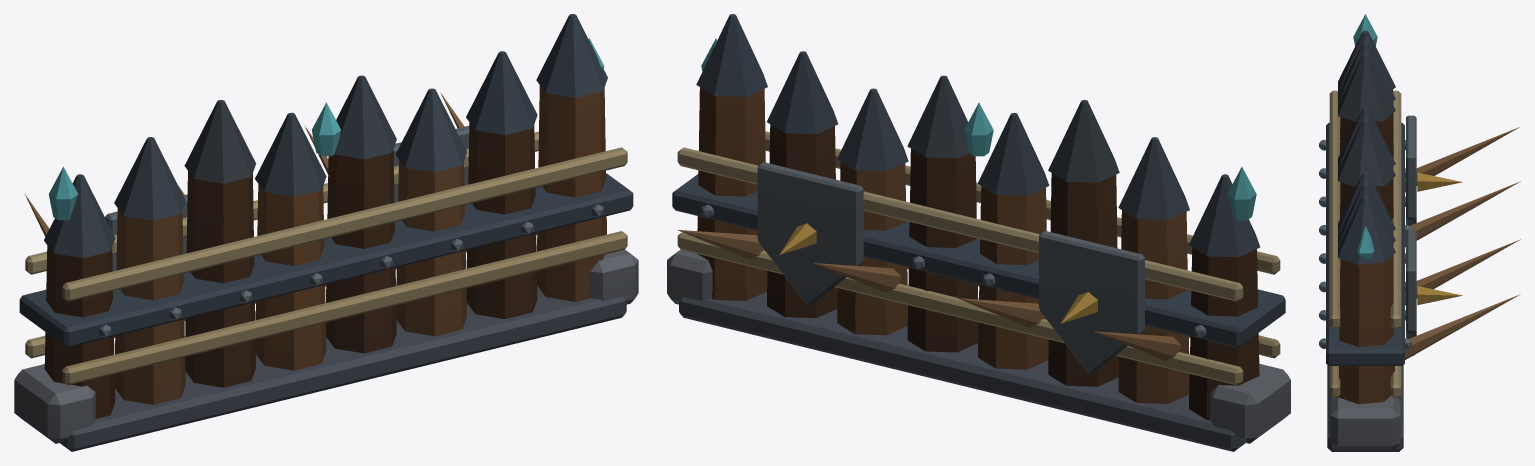
Rendered from def_barricade.glb.
The picture shows the model from 3 angles, left to right: view 1: azimuth 30°, elevation 25°; view 2: azimuth 150°, elevation 25°; view 3: azimuth 270°, elevation 25°; orthographic projection. The views are drawn at different scales.
Visible parts, largest first — view 1: Base, Up2, Up3; view 2: Base, Up2, Up3; view 3: Base, Up2, Up3.
Part boxes in pixels (box(x1,y1,x2,y2)): Base: box(14, 85, 638, 451); Up2: box(19, 14, 633, 347); Up3: box(48, 38, 603, 271); Base: box(667, 87, 1290, 451); Up2: box(672, 14, 1285, 347); Up3: box(701, 38, 1256, 374); Base: box(1327, 90, 1520, 451); Up2: box(1319, 30, 1411, 365); Up3: box(1353, 14, 1462, 355).
Size of the model in its own units: 3.69 by 1.76 by 1.32.
